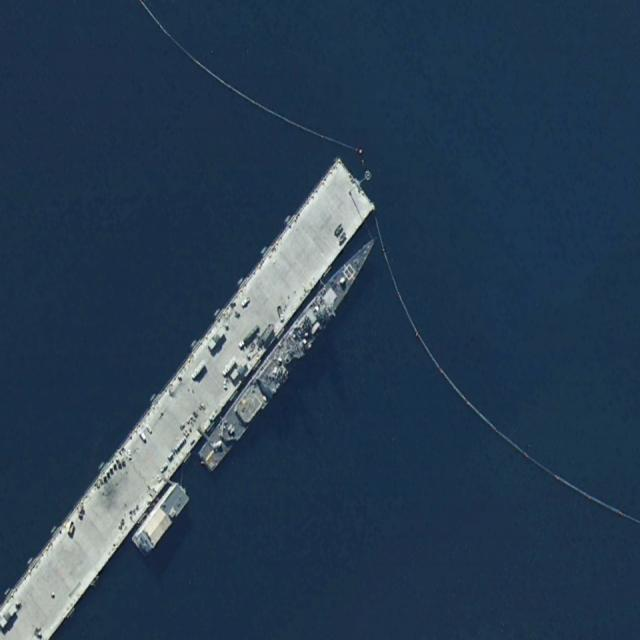Cruiser: (195, 226, 381, 474)
